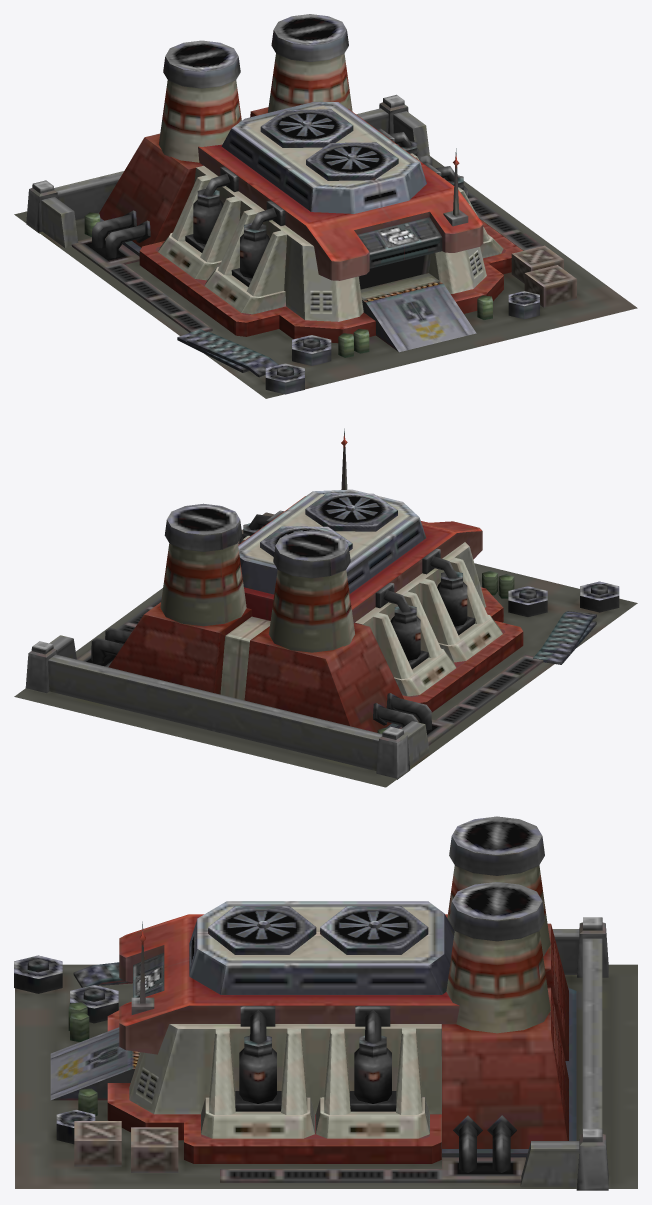
The model's file is tankegongchang_01.fbx.
3 renders of one model, top to bottom at view 1: azimuth 30°, elevation 25°; view 2: azimuth 150°, elevation 25°; view 3: azimuth 270°, elevation 25°, orthographic. The views are drawn at different scales.
Visible parts, largest first — view 1: tankegongchang_01, Fan, Fan (1); view 2: tankegongchang_01, Fan; view 3: tankegongchang_01, Fan, Fan (1).
Part boxes in pixels (left/top/right/bottom): tankegongchang_01: left=14, top=14, right=637, bottom=398; Fan: left=324, top=146, right=379, bottom=169; Fan (1): left=279, top=113, right=334, bottom=136; tankegongchang_01: left=14, top=428, right=637, bottom=787; Fan: left=325, top=497, right=379, bottom=519; tankegongchang_01: left=14, top=816, right=637, bottom=1190; Fan: left=226, top=911, right=296, bottom=939; Fan (1): left=338, top=911, right=408, bottom=939.
Size of the model in its own units: 18.11 by 7.74 by 20.92.
Materials: 2 (2 with a texture image).
